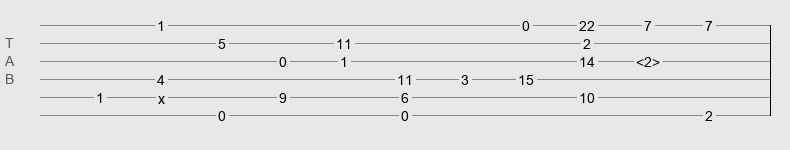0: (218, 108, 226, 118), (279, 54, 287, 64), (401, 108, 409, 118), (522, 18, 530, 28)
1: (96, 90, 104, 100), (157, 18, 165, 28), (340, 54, 348, 64)
10: (579, 90, 595, 100)
11: (336, 36, 352, 46), (397, 72, 413, 82)
14: (579, 54, 595, 64)
15: (518, 72, 534, 82)
2: (583, 36, 591, 46), (705, 108, 713, 118)
22: (579, 18, 595, 28)
3: (461, 72, 469, 82)
4: (157, 72, 165, 82)
5: (218, 36, 226, 46)
6: (401, 90, 409, 100)
7: (644, 18, 652, 28), (705, 18, 713, 28)
9: (279, 90, 287, 100)
harmonic: (636, 54, 660, 64)
x: (158, 91, 165, 99)
